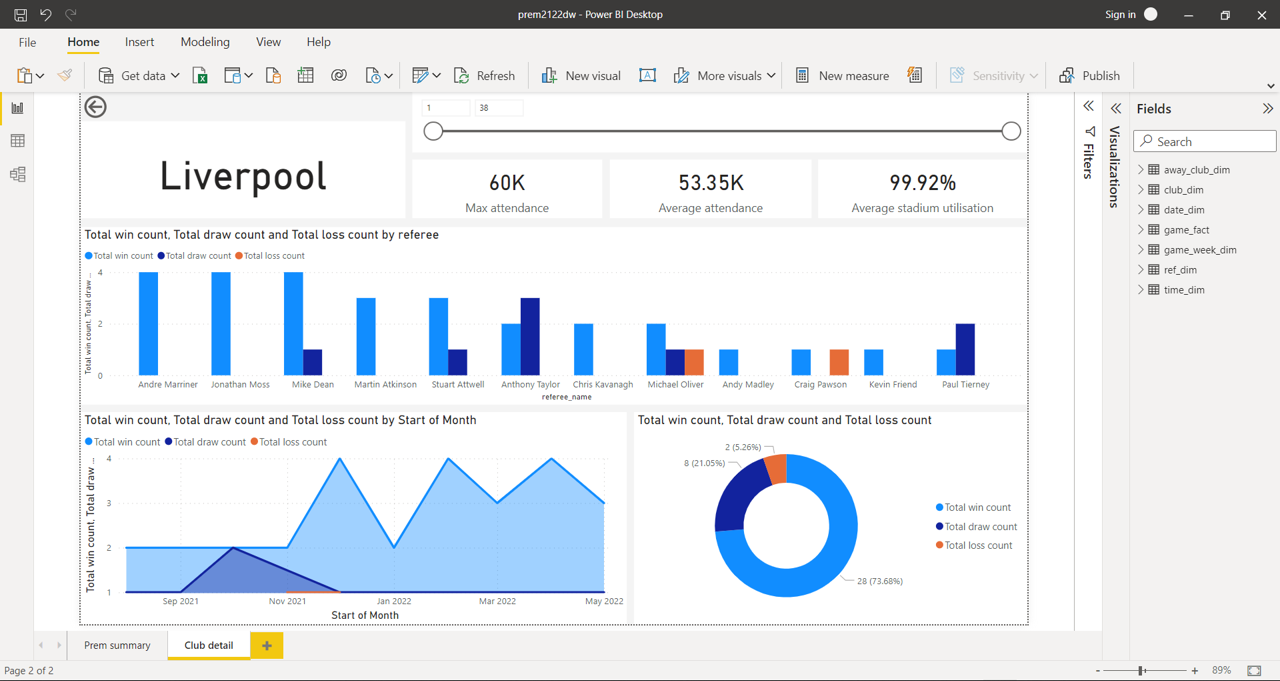

The dashboard page shown, as its layout file describes it:
{"tool":"powerbi","page":{"name":"Club detail","canvas":[1280,720],"ordinal":1},"visuals":[{"type":"card","fields":{"Values":["game_fact.Max attendance"]},"box":[449,91.4,256.5,79.1],"z":0},{"type":"card","fields":{"Values":["game_fact.Average attendance"]},"box":[715.1,91.4,272.9,79.1],"z":1000},{"type":"card","fields":{"Values":["game_fact.Average stadium utilisation"]},"box":[997.5,91.4,282.5,79.1],"z":2000},{"type":"donutChart","fields":{"Y":["game_fact.Home result count","game_fact.Total draw count","game_fact.Total loss count"]},"box":[747.8,432.6,532.2,287.9],"z":3000},{"type":"card","fields":{"Values":["Min(club_dim.club_name)"]},"box":[0,39.6,439.4,131],"z":5000},{"type":"clusteredColumnChart","title":"Total win count, Total draw count and Total loss count by referee","fields":{"Y":["game_fact.Total win count","game_fact.Total draw count","game_fact.Total loss count"],"Category":["ref_dim.referee_name"]},"box":[0,182.9,1280,240.2],"z":6000},{"type":"actionButton","box":[0,0,100,40],"z":7000},{"type":"slicer","fields":{"Values":["game_week_dim.game_week"]},"box":[449,0,831,81.9],"z":8000},{"type":"areaChart","fields":{"Y":["game_fact.Total win count","game_fact.Total draw count","game_fact.Total loss count"],"Category":["date_dim.Start of Month"]},"box":[0,432.7,738.3,287.3],"z":8001}]}

Visuals, with their boxes on the page's 1280x720 design canvas (x1, y1, x2, y2). These are canvas units, not pixel positions in the 1280x681 screenshot, which may show the page scaled, cropped or inside an application window:
card - game_fact.Max attendance: l=449, t=91, r=706, b=170
card - game_fact.Average attendance: l=715, t=91, r=988, b=170
card - game_fact.Average stadium utilisation: l=998, t=91, r=1280, b=170
donutChart - game_fact.Home result count x game_fact.Total draw count: l=748, t=433, r=1280, b=720
card - Min(club_dim.club_name): l=0, t=40, r=439, b=171
"Total win count, Total draw count and Total loss count by referee" clusteredColumnChart: l=0, t=183, r=1280, b=423
actionButton: l=0, t=0, r=100, b=40
slicer - game_week_dim.game_week: l=449, t=0, r=1280, b=82
areaChart - game_fact.Total win count x game_fact.Total draw count: l=0, t=433, r=738, b=720
